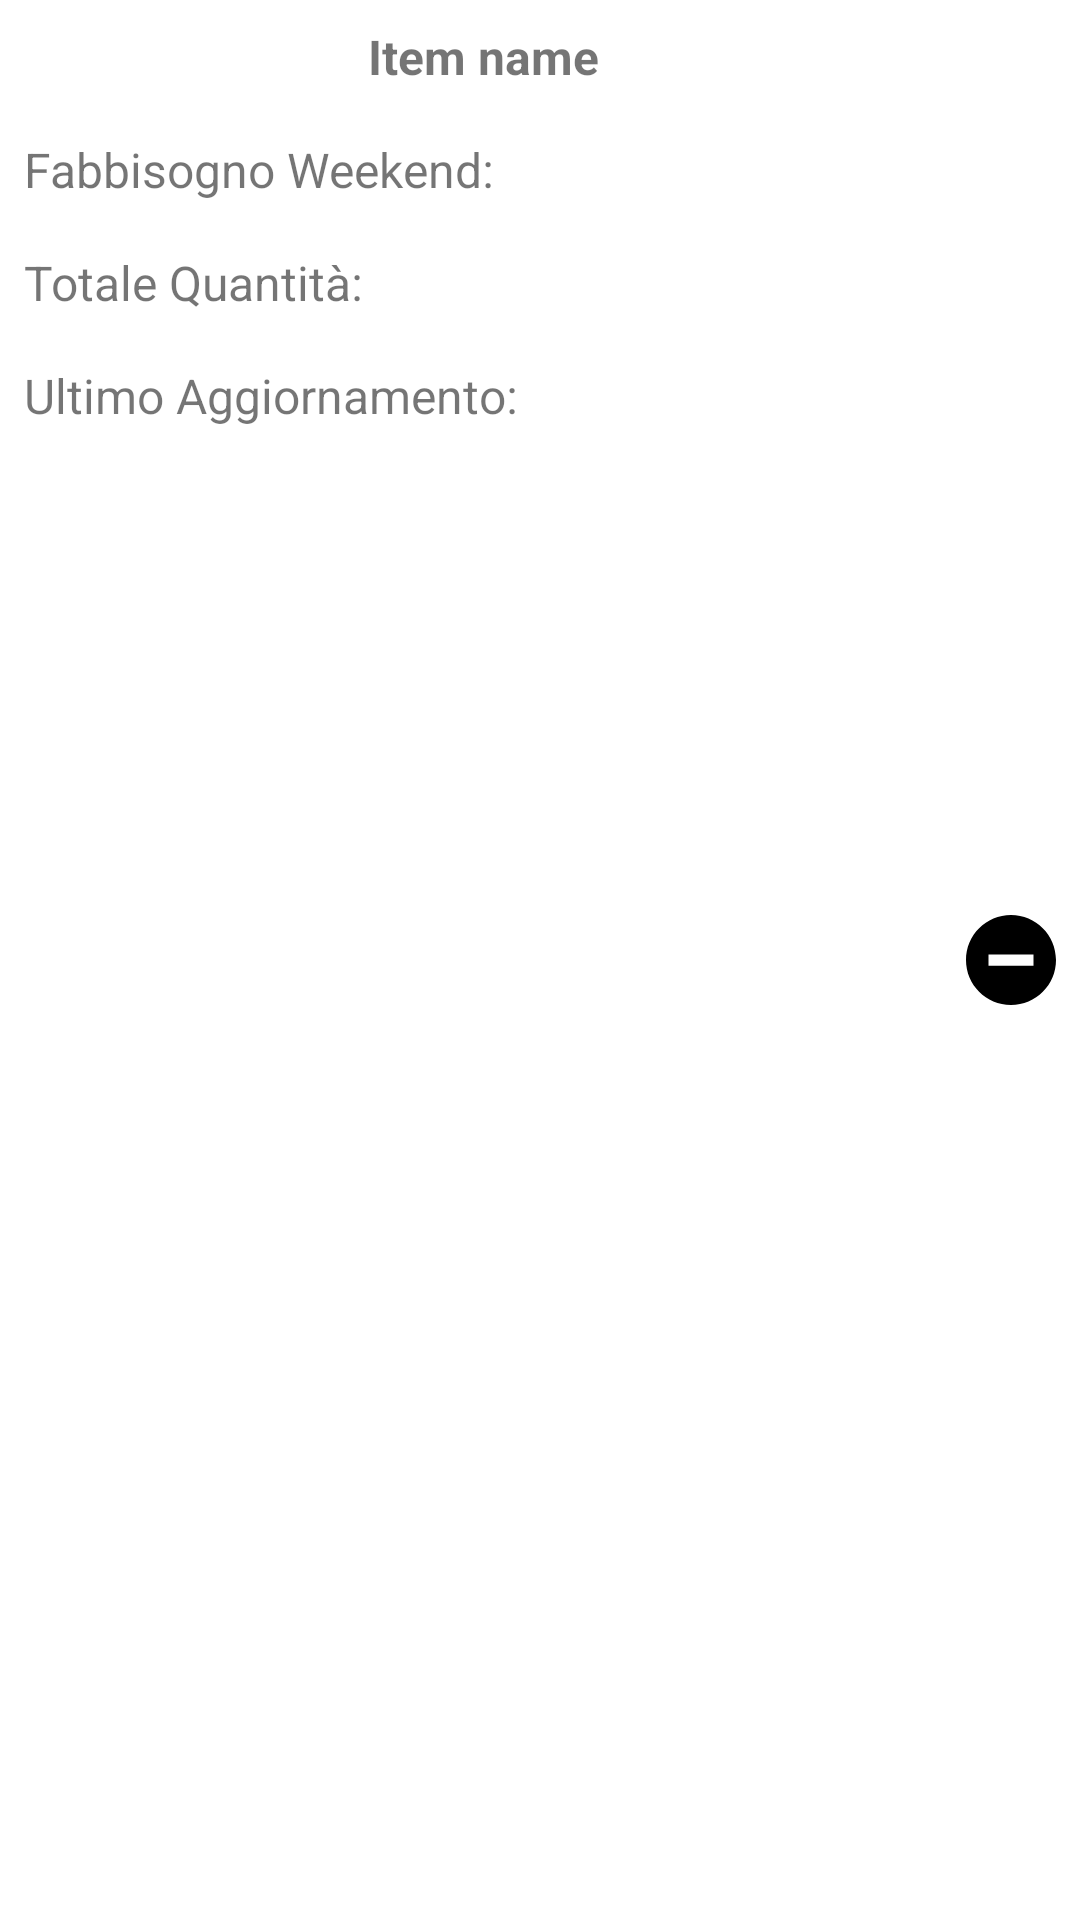

Where to tap for icons on this 1080x1920 app screen, as [x,y]:
minus: [1011,960]
